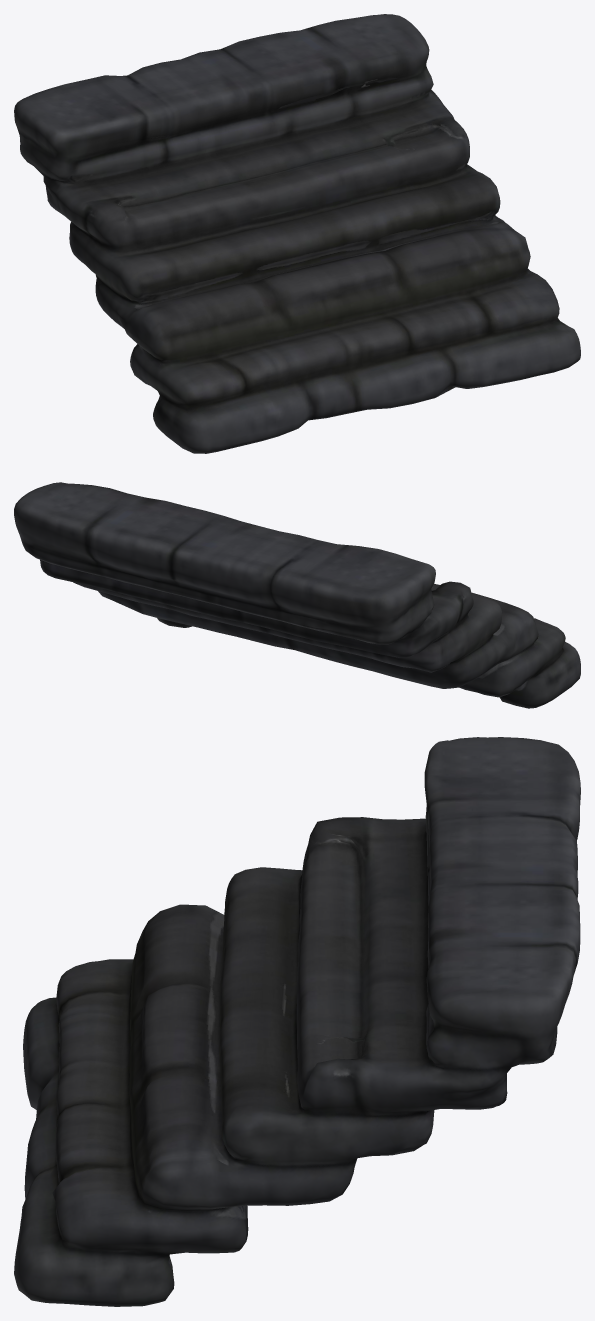
The model's file is stone_stairs__photog.glb.
3 views of the same model, one above another, from view 1: azimuth 30°, elevation 25°; view 2: azimuth 150°, elevation 25°; view 3: azimuth 270°, elevation 25° (orthographic). The views are drawn at different scales.
Parts seen in each view (by area): view 1: mesh; view 2: mesh; view 3: mesh.
Part boxes in pixels (box(x1,y1,x2,y2)): mesh: box(14, 14, 580, 453); mesh: box(14, 482, 580, 708); mesh: box(14, 737, 580, 1306).
Size of the model in its own units: 0.9984 by 0.5452 by 0.8838.
1 material, 1 textured.
